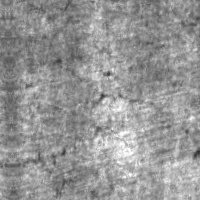crazing: (13, 140, 111, 199), (87, 87, 168, 143)
